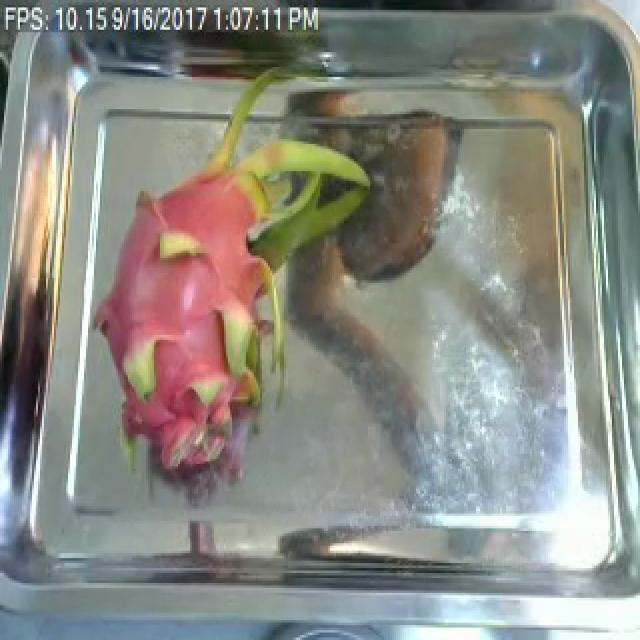fruit: (68, 77, 370, 506)
